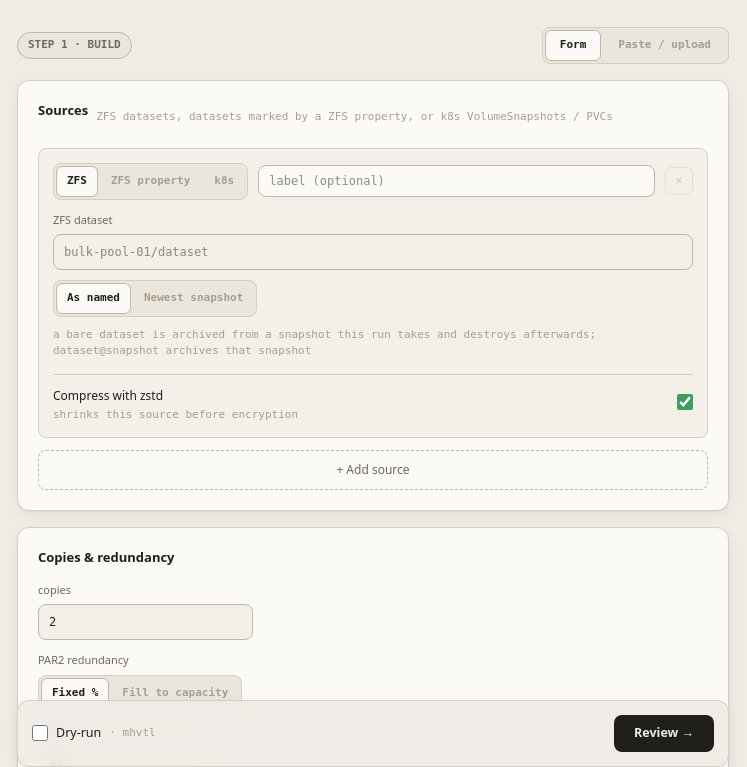
Test: ConfigPage › blocks Review with a field-named error when a critical field is left empty (issue #321)
Check: the element named "config input mode" is shown, box [542,27,729,64]
Type "bulk-pool-01/photos" into the field with placeholder "bulk-pool-01/dataset" at (373, 252), box [53,234,693,270]
(page scrolled)
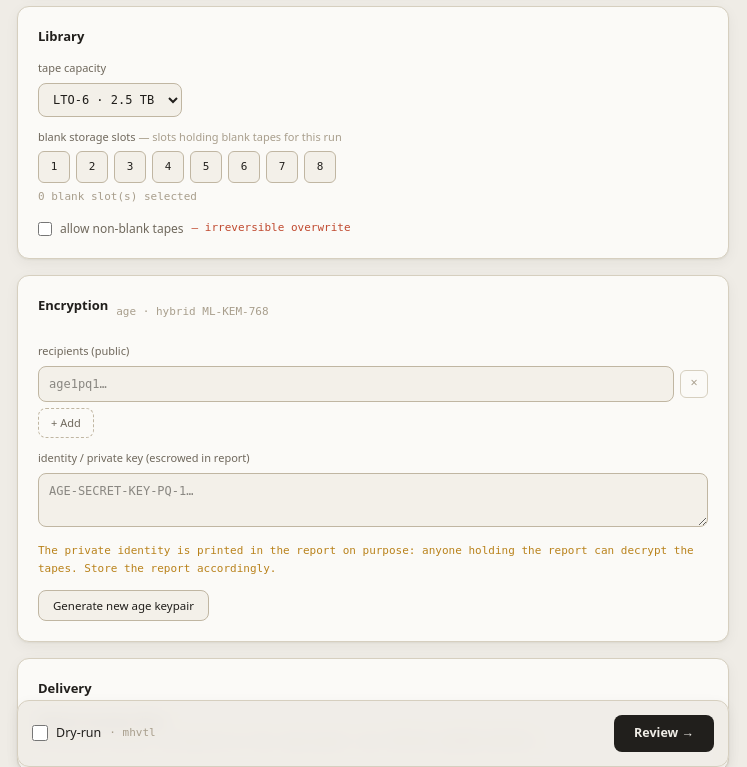
Type "age1pq1zl8m99jvxqmkqq5jwgq8n6j9w66rlahzh5lrpttmr7pldgxqn7uqf4" into the field with placeholder "age1pq1…" at (356, 384), box [38,366,674,402]
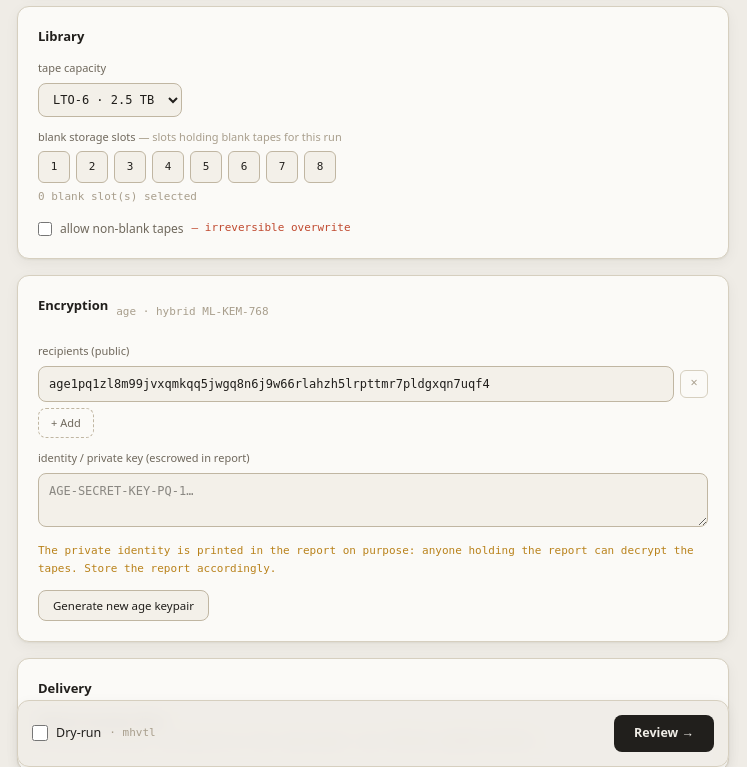
Type "AGE-SECRET-KEY-PQ-1EXAMPLE" into the text box labelled "identity / private key (escrowed in report)" at (373, 500), box [38,472,708,526]
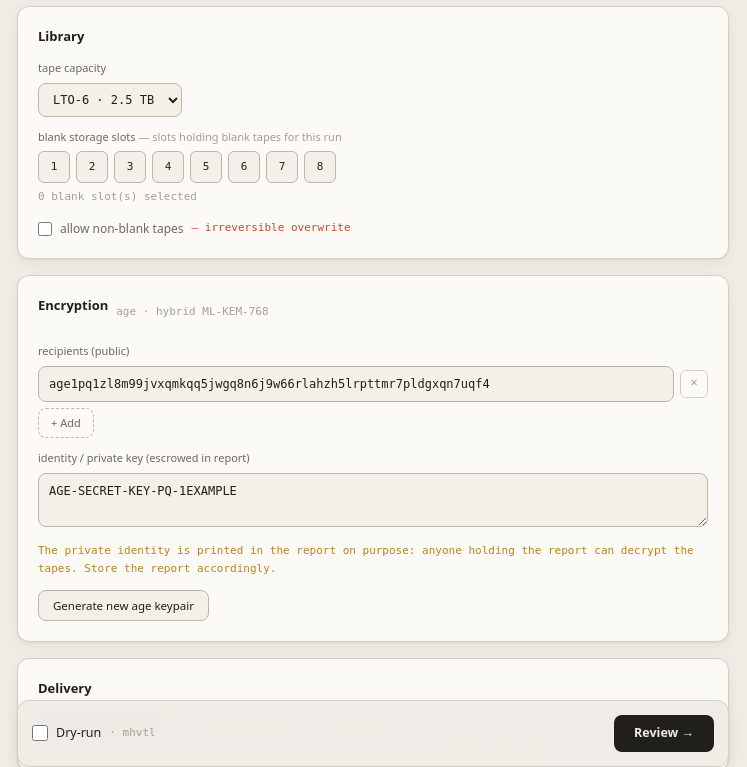
Click the button "Review →" at (664, 734), box [614,715,714,752]
(page scrolled)
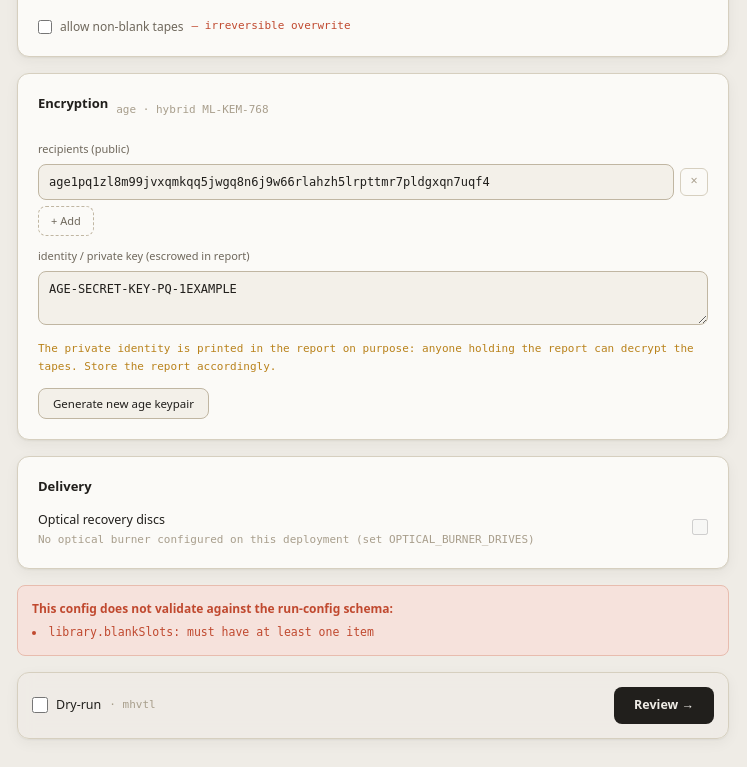
Check: the text "This config does not validate against the run-config schema:" is shown, box [32,600,393,617]
Check: the list item "library.blankSlots: must have at least one item" is shown, box [48,625,374,639]
